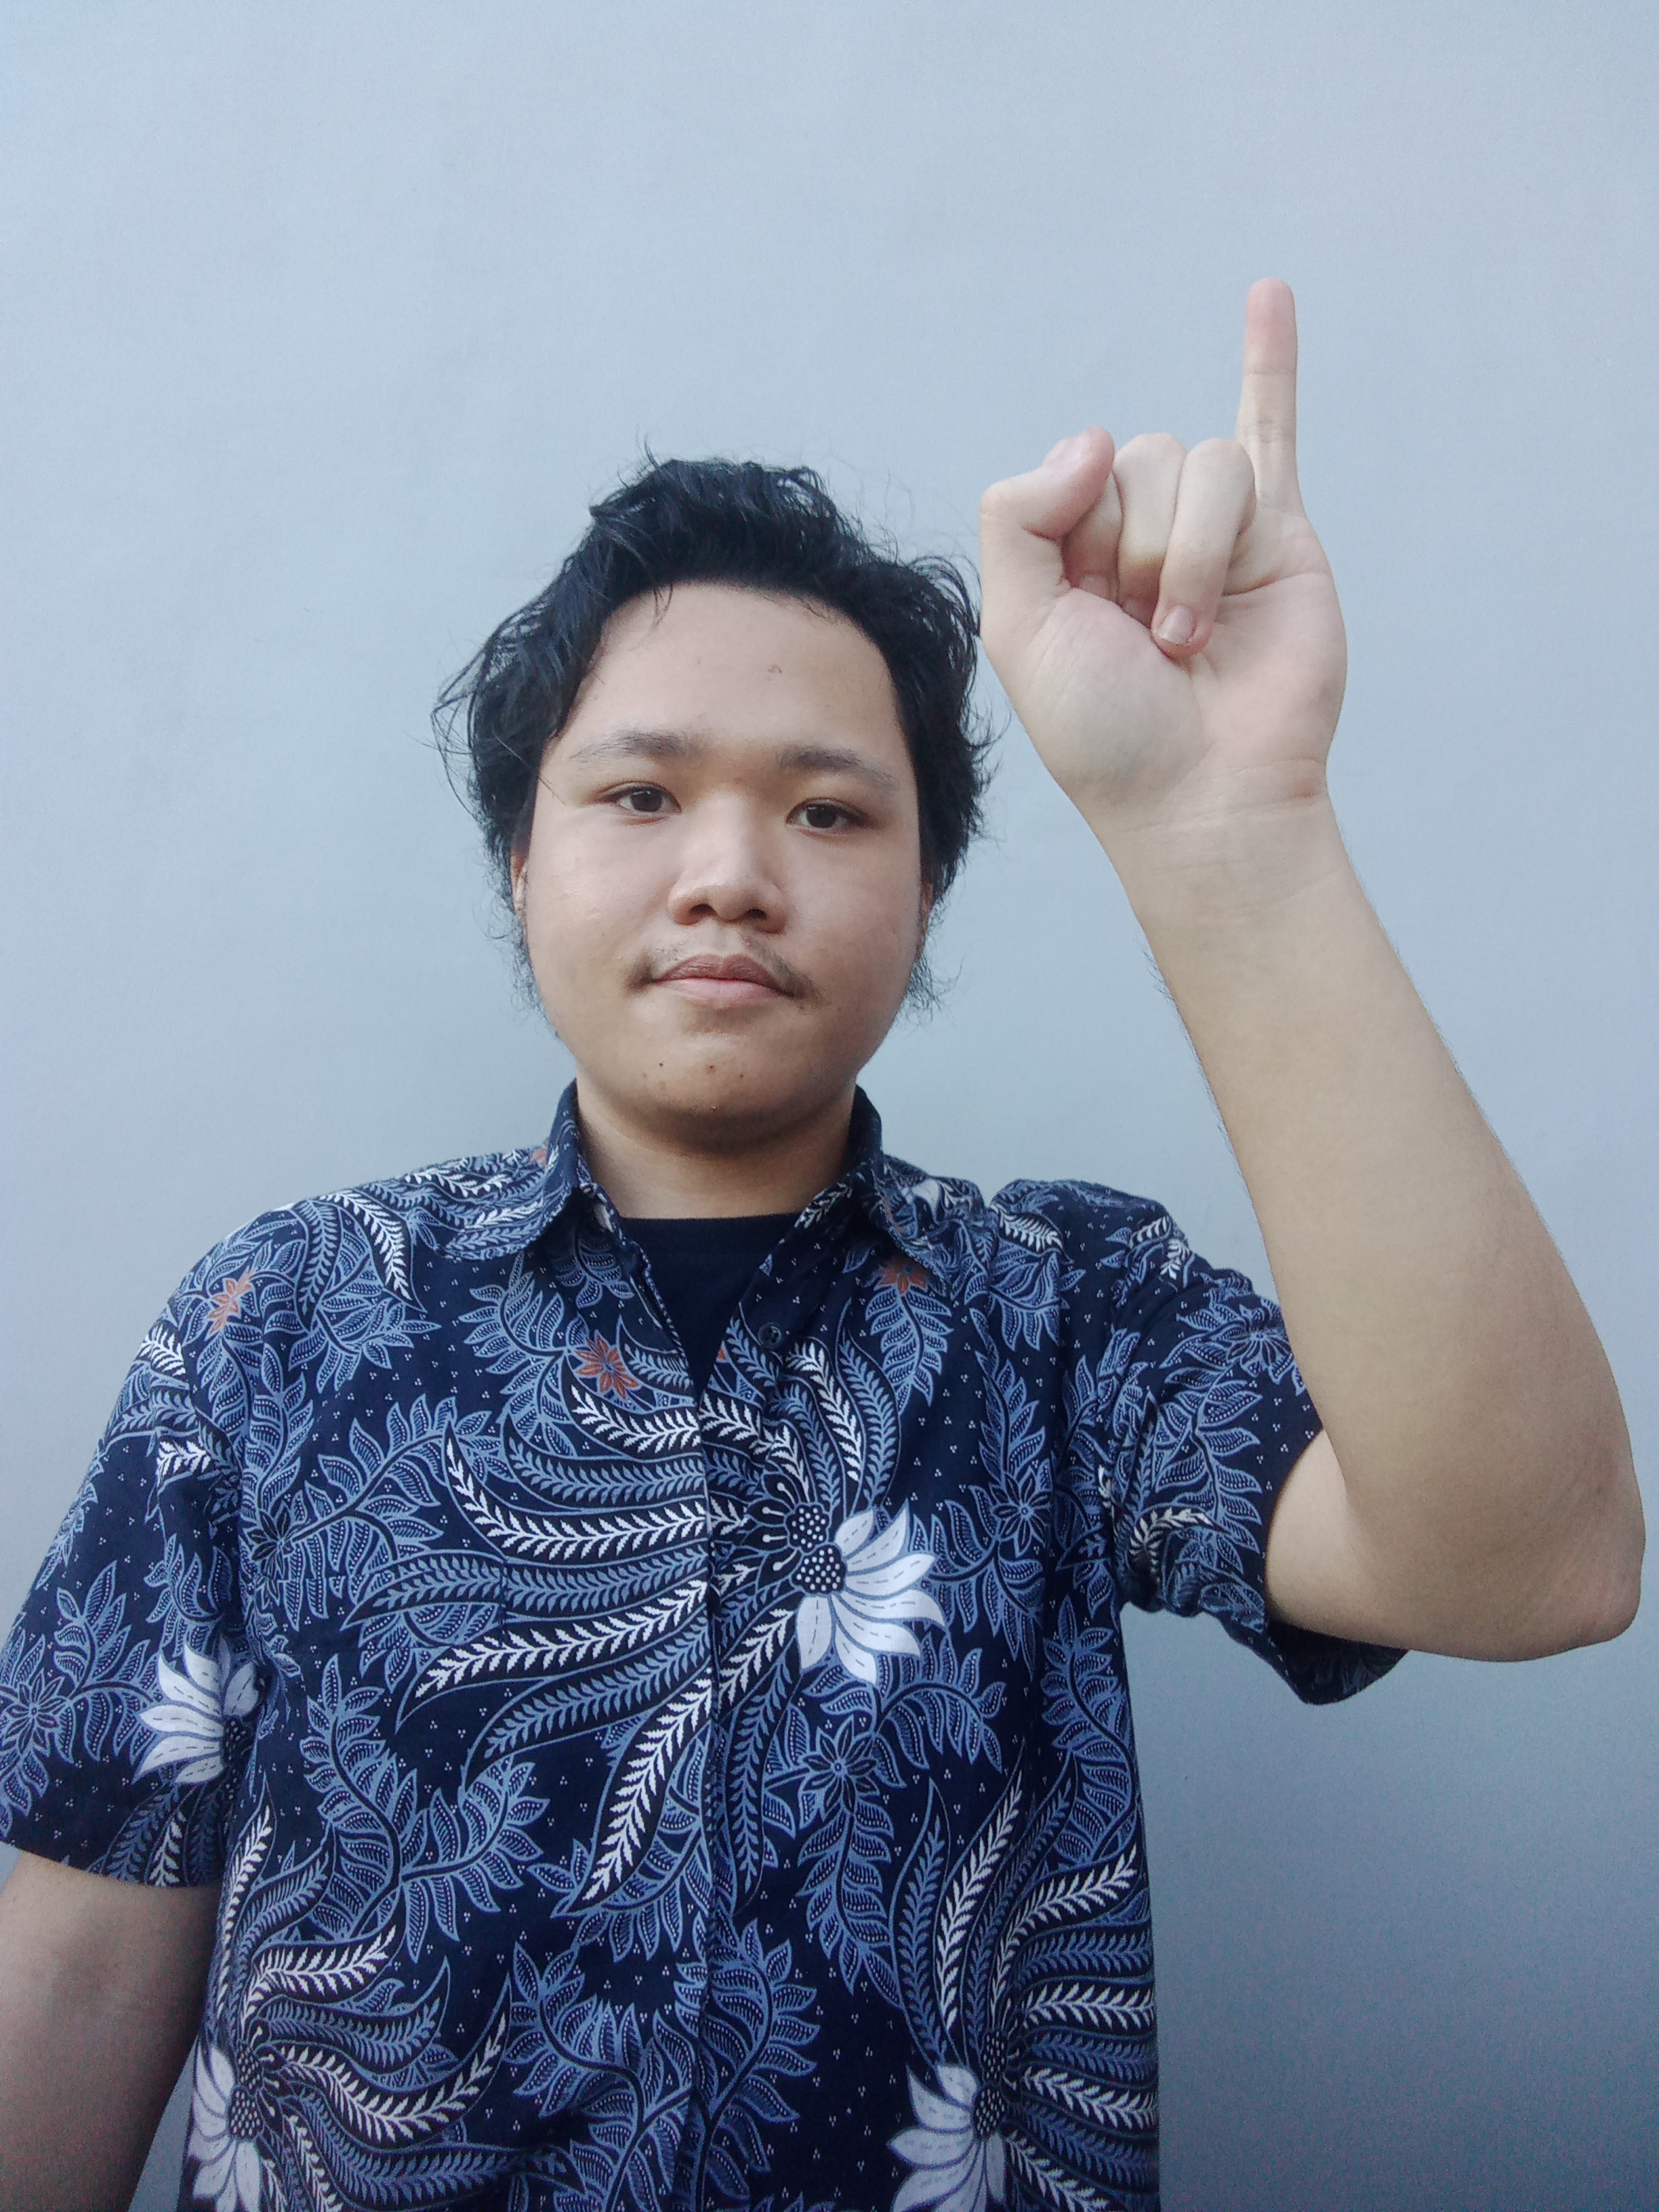I: (967, 216, 1380, 864)
